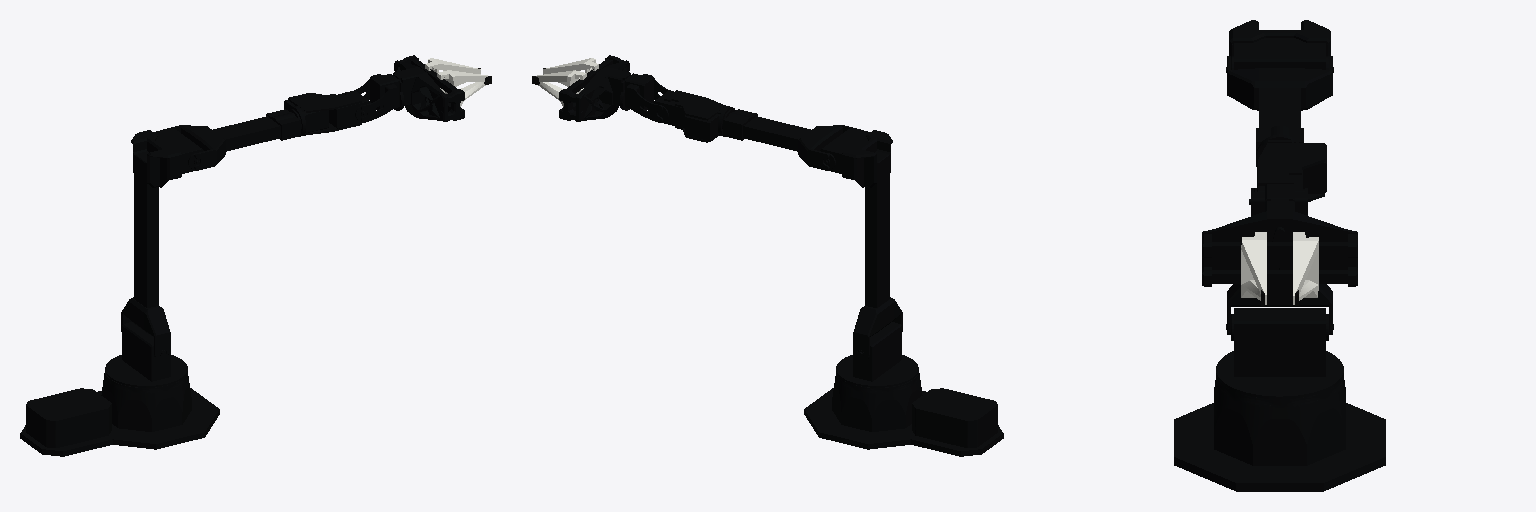
robot.urdf — aloha_left:
<?xml version='1.0' encoding='utf-8'?>
<robot name="aloha_left">
  <link name="left">
    <inertial>
      <mass value="0.1" />
      <inertia ixx=".0001" iyy=".0001" izz=".0001" ixy="0" ixz="0" iyz="0" />
    </inertial>
    <visual>
      <origin xyz="0 0 0" rpy="0 0 1.570796327" />
      <geometry>
        <mesh filename="meshes/vx300s_1_base.stl" />
      </geometry>
      <material name="black_robot">
        <color rgba=".065 .07 .075 1" />
      </material>
    </visual>
  </link>
  <link name="left_shoulder_link">
    <inertial>
      <origin xyz="0.000259233 -3.3552e-06 0.0116129" rpy="1.570025565 -1.477348336 -3.140821891" />
      <mass value="0.798614" />
      <inertia ixx="0.00120156" iyy="0.00113744" izz="0.0009388" ixy="0" ixz="0" iyz="0" />
    </inertial>
    <visual>
      <origin xyz="0 0 -0.003" rpy="0 0 1.570796327" />
      <geometry>
        <mesh filename="meshes/vx300s_2_shoulder.stl" />
      </geometry>
      <material name="black_robot">
        <color rgba=".065 .07 .075 1" />
      </material>
    </visual>
    <collision>
      <origin xyz="0 0 -0.003" rpy="0 0 1.570796327" />
      <geometry>
        <mesh filename="meshes/vx300s_2_shoulder.stl" />
      </geometry>
    </collision>
  </link>
  <joint name="left_waist" type="revolute">
    <parent link="left" />
    <child link="left_shoulder_link" />
    <origin xyz="0 0 0.079" rpy="0 0 0" />
    <axis xyz="0 0 1" />
    <limit lower="-3.14158" upper="3.14158" effort="80" velocity="5" />
    <dynamics damping="0.1" />
    <rest>0</rest>
  </joint>
  <link name="left_upper_arm_link">
    <inertial>
      <origin xyz="0.0206949 4e-10 0.226459" rpy="0 -0.1458207924 3.141592654" />
      <mass value="0.792592" />
      <inertia ixx="0.00911338" iyy="0.008925" izz="0.000759317" ixy="0" ixz="0" iyz="0" />
    </inertial>
    <visual>
      <origin xyz="0 0 0" rpy="0 0 1.570796327" />
      <geometry>
        <mesh filename="meshes/vx300s_3_upper_arm.stl" />
      </geometry>
      <material name="black_robot">
        <color rgba=".065 .07 .075 1" />
      </material>
    </visual>
    <collision>
      <origin xyz="0 0 0" rpy="0 0 1.570796327" />
      <geometry>
        <mesh filename="meshes/vx300s_3_upper_arm.stl" />
      </geometry>
    </collision>
  </link>
  <joint name="left_shoulder" type="revolute">
    <parent link="left_shoulder_link" />
    <child link="left_upper_arm_link" />
    <origin xyz="0 0 0.04805" rpy="0 0 0" />
    <axis xyz="0 1 0" />
    <limit lower="-1.85005" upper="1.25664" effort="80" velocity="5" />
    <dynamics damping="0.1" />
    <rest>-0.96</rest>
  </joint>
  <link name="left_upper_forearm_link">
    <inertial>
      <origin xyz="0.105723 0 0" rpy="1.137466858 -1.555300818 2.019896091" />
      <mass value="0.322228" />
      <inertia ixx="0.00144107" iyy="0.00134228" izz="0.000152047" ixy="0" ixz="0" iyz="0" />
    </inertial>
    <visual>
      <origin xyz="0 0 0" rpy="0 0 0" />
      <geometry>
        <mesh filename="meshes/vx300s_4_upper_forearm.stl" />
      </geometry>
      <material name="black_robot">
        <color rgba=".065 .07 .075 1" />
      </material>
    </visual>
    <collision>
      <origin xyz="0 0 0" rpy="0 0 0" />
      <geometry>
        <mesh filename="meshes/vx300s_4_upper_forearm.stl" />
      </geometry>
    </collision>
  </link>
  <joint name="left_elbow" type="revolute">
    <parent link="left_upper_arm_link" />
    <child link="left_upper_forearm_link" />
    <origin xyz="0.05955 0 0.3" rpy="0 0 0" />
    <axis xyz="0 1 0" />
    <limit lower="-1.76278" upper="1.6057" effort="80" velocity="5" />
    <dynamics damping="0.1" />
    <rest>1.16</rest>
  </joint>
  <link name="left_lower_forearm_link">
    <inertial>
      <origin xyz="0.0513477 0.00680462 0" rpy="0.2258271179 1.570796327 0" />
      <mass value="0.414823" />
      <inertia ixx="0.0005911" iyy="0.000546493" izz="0.000155707" ixy="0" ixz="0" iyz="0" />
    </inertial>
    <visual>
      <origin xyz="0 0 0" rpy="3.141592654 0 0" />
      <geometry>
        <mesh filename="meshes/vx300s_5_lower_forearm.stl" />
      </geometry>
      <material name="black_robot">
        <color rgba=".065 .07 .075 1" />
      </material>
    </visual>
    <collision>
      <origin xyz="0 0 0" rpy="3.141592654 0 0" />
      <geometry>
        <mesh filename="meshes/vx300s_5_lower_forearm.stl" />
      </geometry>
    </collision>
  </link>
  <joint name="left_forearm_roll" type="revolute">
    <parent link="left_upper_forearm_link" />
    <child link="left_lower_forearm_link" />
    <origin xyz="0.2 0 0" rpy="0 0 0" />
    <axis xyz="1 0 0" />
    <limit lower="-3.14158" upper="3.14158" effort="80" velocity="5" />
    <dynamics damping="0.1" />
    <rest>0</rest>
  </joint>
  <link name="left_wrist_link">
    <inertial>
      <origin xyz="0.046743 -7.6652e-06 0.010565" rpy="0.008277755597 -1.151791261 3.138606937" />
      <mass value="0.115395" />
      <inertia ixx="5.45707e-05" iyy="4.63101e-05" izz="4.32692e-05" ixy="0" ixz="0" iyz="0" />
    </inertial>
    <visual>
      <origin xyz="0 0 0" rpy="0 0 1.570796327" />
      <geometry>
        <mesh filename="meshes/vx300s_6_wrist.stl" />
      </geometry>
      <material name="black_robot">
        <color rgba=".065 .07 .075 1" />
      </material>
    </visual>
    <collision>
      <origin xyz="0 0 0" rpy="0 0 1.570796327" />
      <geometry>
        <mesh filename="meshes/vx300s_6_wrist.stl" />
      </geometry>
    </collision>
  </link>
  <joint name="left_wrist_angle" type="revolute">
    <parent link="left_lower_forearm_link" />
    <child link="left_wrist_link" />
    <origin xyz="0.1 0 0" rpy="0 0 0" />
    <axis xyz="0 1 0" />
    <limit lower="-1.8675" upper="2.23402" effort="80" velocity="5" />
    <dynamics damping="0.1" />
    <rest>-0.3</rest>
  </joint>
  <link name="left_gripper_link">
    <inertial>
      <origin xyz="0.0395662 -2.56311e-07 0.00400649" rpy="1.569606202 -1.002483763 0.0009536419229" />
      <mass value="0.251652" />
      <inertia ixx="0.000689546" iyy="0.000650316" izz="0.000468142" ixy="0" ixz="0" iyz="0" />
    </inertial>
    <visual>
      <origin xyz="-0.02 0 0" rpy="0 0 1.570796327" />
      <geometry>
        <mesh filename="meshes/vx300s_7_gripper.stl" />
      </geometry>
      <material name="black_robot">
        <color rgba=".065 .07 .075 1" />
      </material>
    </visual>
    <collision>
      <origin xyz="-0.02 0 0" rpy="0 0 1.570796327" />
      <geometry>
        <mesh filename="meshes/vx300s_7_gripper.stl" />
      </geometry>
    </collision>
    <visual>
      <origin xyz="-0.020175 0 0" rpy="0 0 1.570796327" />
      <geometry>
        <mesh filename="meshes/vx300s_9_gripper_bar.stl" />
      </geometry>
      <material name="black_robot">
        <color rgba=".065 .07 .075 1" />
      </material>
    </visual>
    <collision>
      <origin xyz="-0.020175 0 0" rpy="0 0 1.570796327" />
      <geometry>
        <mesh filename="meshes/vx300s_9_gripper_bar.stl" />
      </geometry>
    </collision>
  </link>
  <joint name="left_wrist_rotate" type="revolute">
    <parent link="left_wrist_link" />
    <child link="left_gripper_link" />
    <origin xyz="0.069744 0 0" rpy="0 0 0" />
    <axis xyz="1 0 0" />
    <limit lower="-3.14158" upper="3.14158" effort="80" velocity="5" />
    <dynamics damping="0.1" />
    <rest>0</rest>
  </joint>
  <link name="left_gripper_prop_link">
    <inertial>
      <origin xyz="0.002378 2.85e-08 0" rpy="2.229034153 0 3.141592654" />
      <mass value="0.008009" />
      <inertia ixx="4.2979e-06" iyy="2.8868e-06" izz="1.5314e-06" ixy="0" ixz="0" iyz="0" />
    </inertial>
    <visual>
      <origin xyz="-0.0685 0 0" rpy="0 0 1.570796327" />
      <geometry>
        <mesh filename="meshes/vx300s_8_gripper_prop.stl" />
      </geometry>
      <material name="black_robot">
        <color rgba=".065 .07 .075 1" />
      </material>
    </visual>
    <collision>
      <origin xyz="-0.0685 0 0" rpy="0 0 1.570796327" />
      <geometry>
        <mesh filename="meshes/vx300s_8_gripper_prop.stl" />
      </geometry>
    </collision>
  </link>
  <joint name="left_gripper_prop_link_fixed" type="fixed">
    <parent link="left_gripper_link" />
    <child link="left_gripper_prop_link" />
    <origin xyz="0.0485 0 0" rpy="0 0 0" />
  </joint>
  <link name="left_left_finger_link">
    <inertial>
      <origin xyz="0.017344 -0.0060692 0" rpy="1.570796327 0 -1.764289971" />
      <mass value="0.034796" />
      <inertia ixx="2.48003e-05" iyy="1.417e-05" izz="1.20797e-05" ixy="0" ixz="0" iyz="0" />
    </inertial>
    <visual>
      <origin xyz="0.005 -0.052 0" rpy="2.034443555 -1.569015686 1.107148464" />
      <geometry>
        <mesh filename="meshes/vx300s_10_custom_finger_left.stl" />
      </geometry>
      <material name="white_fingers">
        <color rgba=".92 .92 .89 1" />
      </material>
    </visual>
    <collision>
      <geometry>
        <mesh filename="meshes/left_left_finger_link_collision_0.stl" />
      </geometry>
    </collision>
    <collision>
      <geometry>
        <mesh filename="meshes/left_left_finger_link_collision_1.stl" />
      </geometry>
    </collision>
    <collision>
      <geometry>
        <mesh filename="meshes/left_left_finger_link_collision_2.stl" />
      </geometry>
    </collision>
    <collision>
      <geometry>
        <mesh filename="meshes/left_left_finger_link_collision_3.stl" />
      </geometry>
    </collision>
    <collision>
      <geometry>
        <mesh filename="meshes/left_left_finger_link_collision_4.stl" />
      </geometry>
    </collision>
    <visual>
      <origin xyz=".078 -0.019 0" rpy="0 0 0" />
      <geometry>
        <box size=".014 .004 .012" />
      </geometry>
      <material name="estimated_contact_pad">
        <color rgba=".08 .08 .08 1" />
      </material>
    </visual>
    <collision>
      <origin xyz=".078 -0.019 0" rpy="0 0 0" />
      <geometry>
        <box size=".014 .004 .012" />
      </geometry>
    </collision>
  </link>
  <joint name="left_left_finger" type="prismatic">
    <parent link="left_gripper_link" />
    <child link="left_left_finger_link" />
    <origin xyz="0.0687 0 0" rpy="0 0 0" />
    <axis xyz="0 1 0" />
    <limit lower="0.005" upper="0.065" effort="15" velocity=".2" />
    <dynamics damping="0.05" />
    <rest>0.02239</rest>
  </joint>
  <link name="left_right_finger_link">
    <inertial>
      <origin xyz="0.017344 0.0060692 0" rpy="-1.570796327 0 -1.764267881" />
      <mass value="0.034796" />
      <inertia ixx="2.48002e-05" iyy="1.417e-05" izz="1.20798e-05" ixy="0" ixz="0" iyz="0" />
    </inertial>
    <visual>
      <origin xyz="0.005 0.052 0" rpy="2.034443555 -1.569015686 1.107148464" />
      <geometry>
        <mesh filename="meshes/vx300s_10_custom_finger_right.stl" />
      </geometry>
      <material name="white_fingers">
        <color rgba=".92 .92 .89 1" />
      </material>
    </visual>
    <collision>
      <geometry>
        <mesh filename="meshes/left_right_finger_link_collision_0.stl" />
      </geometry>
    </collision>
    <collision>
      <geometry>
        <mesh filename="meshes/left_right_finger_link_collision_1.stl" />
      </geometry>
    </collision>
    <collision>
      <geometry>
        <mesh filename="meshes/left_right_finger_link_collision_2.stl" />
      </geometry>
    </collision>
    <collision>
      <geometry>
        <mesh filename="meshes/left_right_finger_link_collision_3.stl" />
      </geometry>
    </collision>
    <collision>
      <geometry>
        <mesh filename="meshes/left_right_finger_link_collision_4.stl" />
      </geometry>
    </collision>
    <visual>
      <origin xyz=".078 0.019 0" rpy="0 0 0" />
      <geometry>
        <box size=".014 .004 .012" />
      </geometry>
      <material name="estimated_contact_pad">
        <color rgba=".08 .08 .08 1" />
      </material>
    </visual>
    <collision>
      <origin xyz=".078 0.019 0" rpy="0 0 0" />
      <geometry>
        <box size=".014 .004 .012" />
      </geometry>
    </collision>
  </link>
  <joint name="left_right_finger" type="prismatic">
    <parent link="left_gripper_link" />
    <child link="left_right_finger_link" />
    <origin xyz="0.0687 0 0" rpy="0 0 0" />
    <axis xyz="0 1 0" />
    <limit lower="-0.065" upper="-0.005" effort="15" velocity=".2" />
    <dynamics damping="0.05" />
    <rest>-0.02239</rest>
  </joint>
</robot>

--- Render facts (derived) ---
The picture shows the robot from 3 angles, left to right: view 1: azimuth 30°, elevation 25°; view 2: azimuth 150°, elevation 25°; view 3: azimuth 270°, elevation 25°; orthographic projection.
Model aloha_left with 10 links and 9 joints (6 revolute, 2 prismatic, 1 fixed), rooted at left, posed joints at zero except 2 at the middle of their limits (left_left_finger = 0.035, left_right_finger = -0.035).
Links seen in each view (by area): view 1: left, left_upper_arm_link, left_upper_forearm_link, left_shoulder_link, left_gripper_link, left_lower_forearm_link, left_wrist_link, left_right_finger_link; view 2: left, left_upper_arm_link, left_upper_forearm_link, left_shoulder_link, left_gripper_link, left_lower_forearm_link, left_wrist_link, left_left_finger_link; view 3: left, left_shoulder_link, left_gripper_link, left_upper_arm_link, left_upper_forearm_link, left_lower_forearm_link, left_right_finger_link, left_left_finger_link, left_wrist_link.
Link boxes in pixels (bbox=[...]): left: bbox=[20, 372, 219, 456]; left_upper_arm_link: bbox=[121, 128, 203, 356]; left_upper_forearm_link: bbox=[163, 109, 301, 170]; left_shoulder_link: bbox=[105, 322, 187, 387]; left_gripper_link: bbox=[393, 55, 464, 121]; left_lower_forearm_link: bbox=[284, 90, 370, 136]; left_wrist_link: bbox=[345, 74, 402, 122]; left_right_finger_link: bbox=[437, 70, 491, 106]; left: bbox=[804, 372, 1003, 456]; left_upper_arm_link: bbox=[820, 128, 902, 356]; left_upper_forearm_link: bbox=[722, 109, 860, 170]; left_shoulder_link: bbox=[836, 322, 918, 387]; left_gripper_link: bbox=[559, 55, 630, 121]; left_lower_forearm_link: bbox=[653, 90, 735, 142]; left_wrist_link: bbox=[621, 73, 670, 122]; left_left_finger_link: bbox=[532, 70, 586, 106]; left: bbox=[1174, 376, 1385, 491]; left_shoulder_link: bbox=[1216, 308, 1343, 398]; left_gripper_link: bbox=[1202, 199, 1357, 286]; left_upper_arm_link: bbox=[1226, 20, 1333, 334]; left_upper_forearm_link: bbox=[1227, 56, 1332, 166]; left_lower_forearm_link: bbox=[1249, 134, 1326, 204]; left_right_finger_link: bbox=[1241, 232, 1266, 305]; left_left_finger_link: bbox=[1293, 232, 1318, 305]; left_wrist_link: bbox=[1251, 184, 1307, 215].
Bounding box of the posed robot: 0.7805 × 0.204 × 0.4623 m (x, y, z).
Meshes: 11 distinct files referenced, 11 mesh visuals loaded (11 binary STL).
